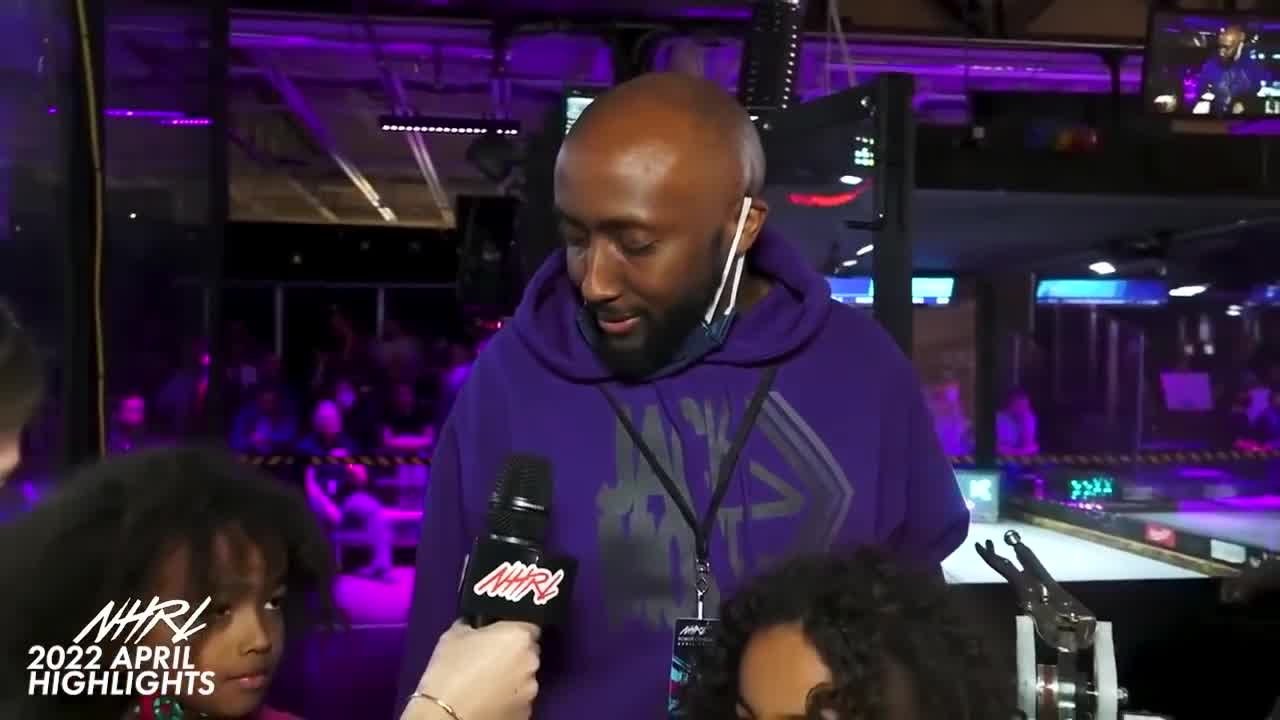combatbot: (1014, 615, 1167, 719)
